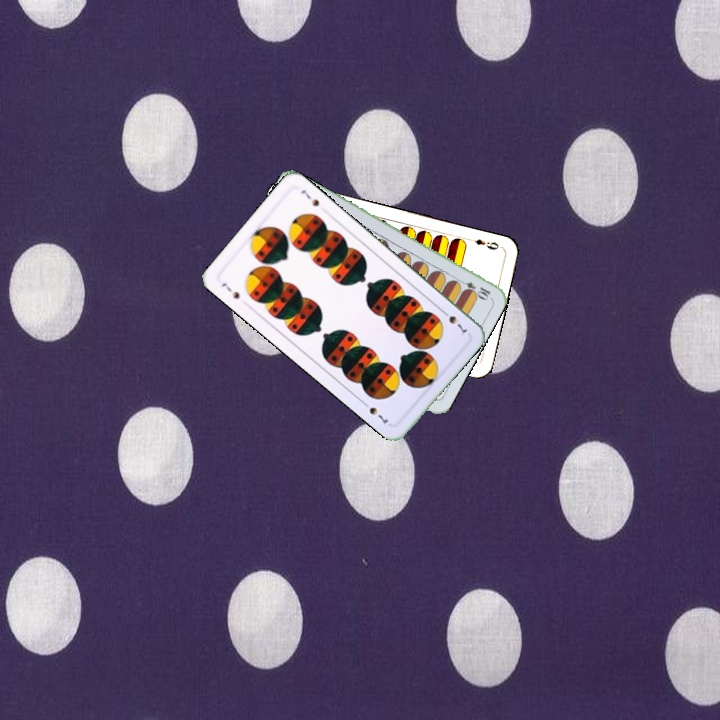E10: (454, 275, 493, 301)
E9: (465, 234, 501, 252)
S7: (437, 306, 470, 338), (217, 279, 242, 302)
